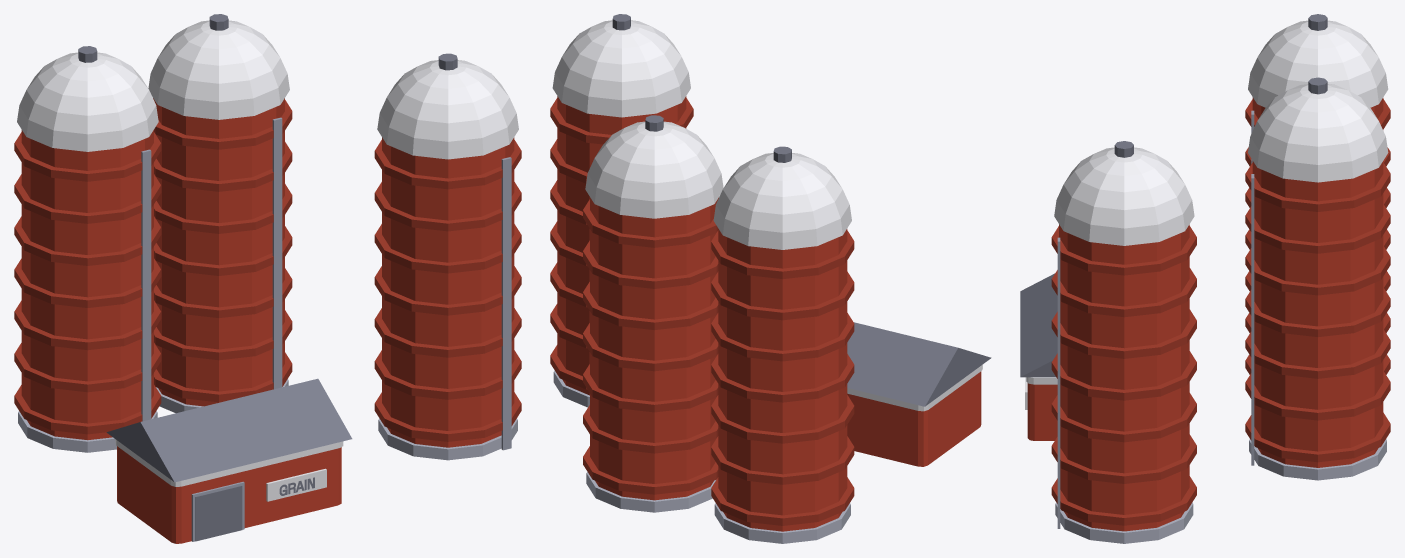
The model's file is silo-2x2-t7-tone-a.glb.
3 views of the same model, side by side, from view 1: azimuth 30°, elevation 25°; view 2: azimuth 150°, elevation 25°; view 3: azimuth 270°, elevation 25° (orthographic). The views are drawn at different scales.
Visible parts, largest first — view 1: silo-2x2-t7-tone-a; view 2: silo-2x2-t7-tone-a; view 3: silo-2x2-t7-tone-a.
Part boxes in pixels (x1,y1,x2,y2): silo-2x2-t7-tone-a: (14,14,521,543); silo-2x2-t7-tone-a: (550,14,991,543); silo-2x2-t7-tone-a: (1020,14,1390,543).
Size of the model in its own units: 1.84 by 1.68 by 1.53.
1 material, 1 textured.
